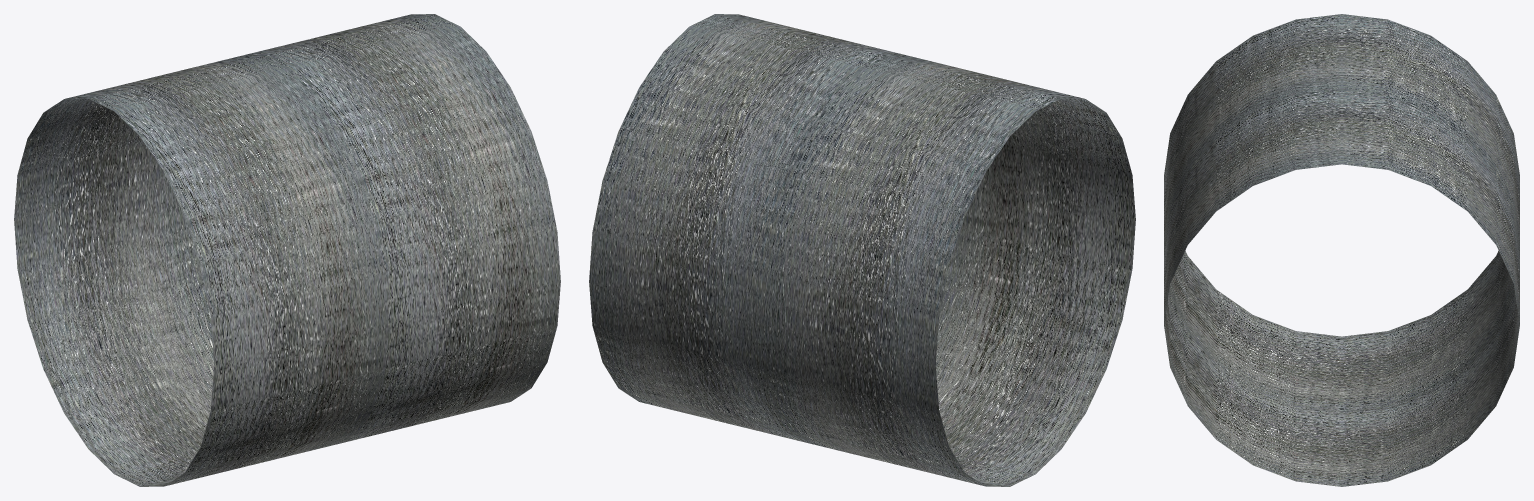
Rendered from tunnel.obj.
3 views of the same model, side by side, from view 1: azimuth 30°, elevation 25°; view 2: azimuth 150°, elevation 25°; view 3: azimuth 270°, elevation 25° (orthographic). The views are drawn at different scales.
Size of the model in its own units: 2 by 2 by 2.
1 material, 1 textured.
